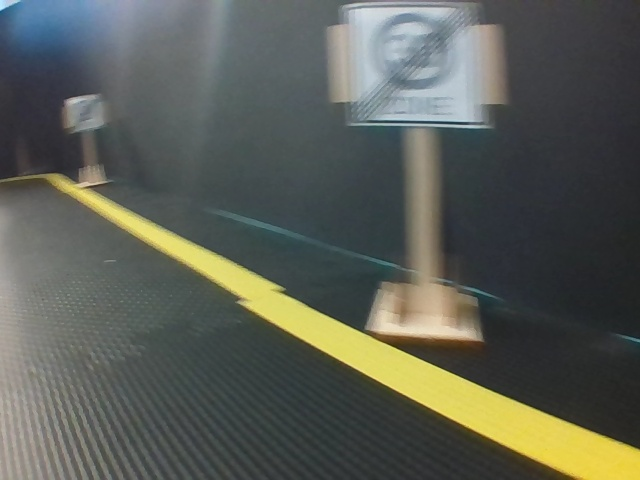no30: (346, 5, 482, 125), (66, 95, 98, 128)
